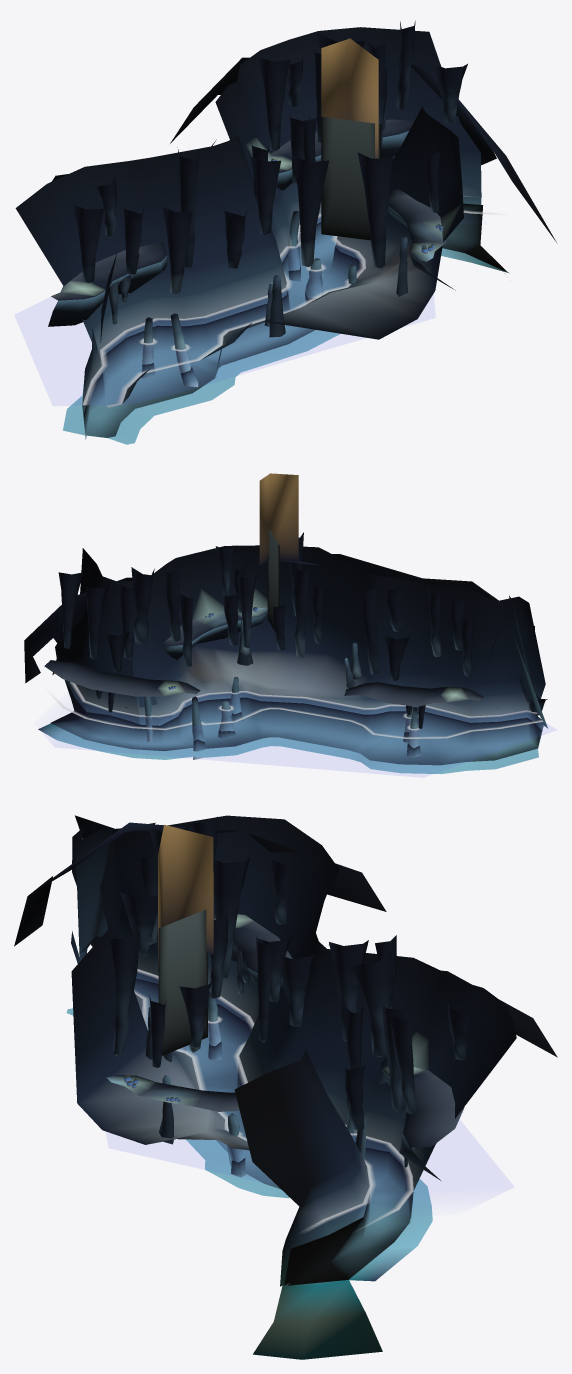
Rendered from 06Cavern.gltf.
3 views of the same model, one above another, from view 1: azimuth 30°, elevation 25°; view 2: azimuth 150°, elevation 25°; view 3: azimuth 270°, elevation 25° (orthographic). The views are drawn at different scales.
Parts seen in each view (by area): view 1: stg020_o18_Mesh_0, stg020_o05_Mesh_4, stg020_a05_Mesh_0, stg020_a05_Mesh_2, stg020_ripple_k_18_Mesh_2, stg020_ripple_k_18_Mesh_1; view 2: stg020_o18_Mesh_0, stg020_o05_Mesh_4, stg020_a05_Mesh_0, stg020_ripple_k_18_Mesh_2, stg020_ripple_k_18_Mesh_1, stg020_a05_Mesh_2; view 3: stg020_o18_Mesh_0, stg020_o05_Mesh_4, stg020_a05_Mesh_0, stg020_a05_Mesh_2, stg020_ripple_k_18_Mesh_2, stg020_ripple_k_18_Mesh_1.
Part boxes in pixels (box(x1,y1,x2,y2)): stg020_o18_Mesh_0: box(15, 27, 557, 444); stg020_o05_Mesh_4: box(73, 20, 467, 373); stg020_a05_Mesh_0: box(83, 203, 506, 437); stg020_a05_Mesh_2: box(321, 117, 381, 240); stg020_ripple_k_18_Mesh_2: box(83, 207, 374, 402); stg020_ripple_k_18_Mesh_1: box(82, 196, 502, 407); stg020_o18_Mesh_0: box(24, 473, 547, 774); stg020_o05_Mesh_4: box(58, 532, 473, 748); stg020_a05_Mesh_0: box(50, 682, 541, 765); stg020_ripple_k_18_Mesh_2: box(76, 684, 531, 715); stg020_ripple_k_18_Mesh_1: box(48, 682, 543, 738); stg020_a05_Mesh_2: box(267, 528, 279, 632); stg020_o18_Mesh_0: box(14, 815, 557, 1359); stg020_o05_Mesh_4: box(110, 816, 471, 1167); stg020_a05_Mesh_0: box(134, 978, 412, 1285); stg020_a05_Mesh_2: box(158, 909, 207, 1055); stg020_ripple_k_18_Mesh_2: box(136, 959, 418, 1224); stg020_ripple_k_18_Mesh_1: box(134, 969, 413, 1231).
Size of the model in its own units: 154 by 95.32 by 116.
